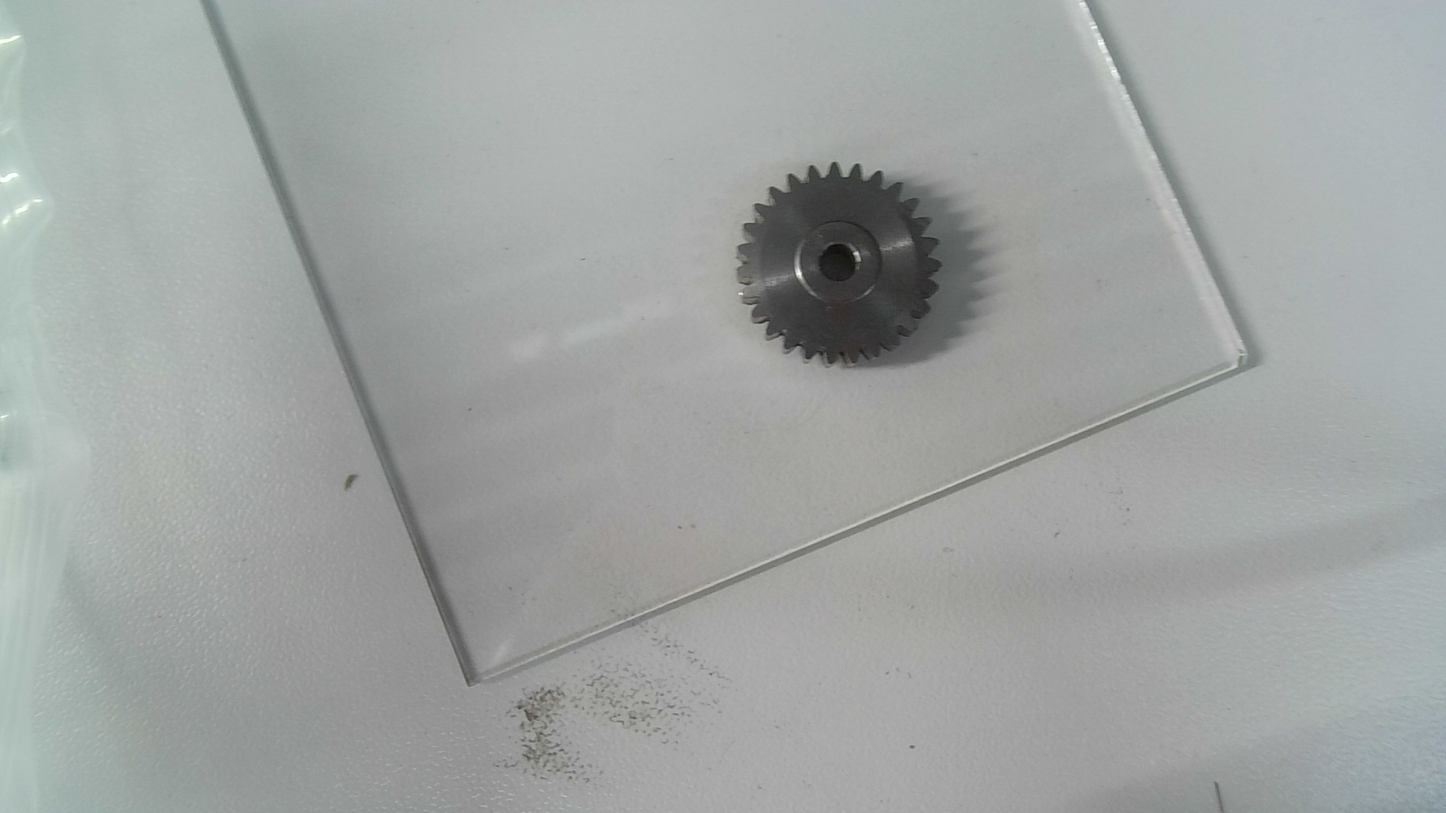gear: (734, 160, 945, 373)
